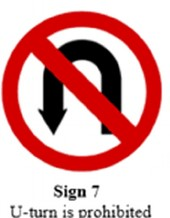Traffic signal: (2, 11, 163, 169)
